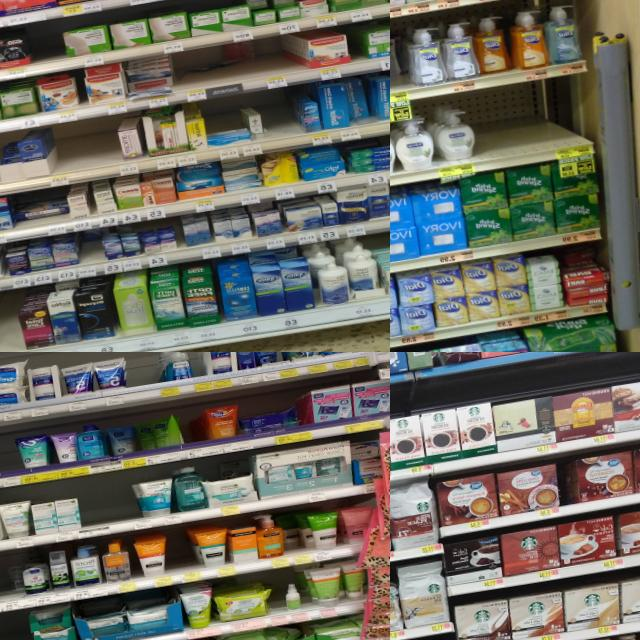100% O.O.S: (470, 82, 560, 170), (76, 480, 136, 538), (125, 352, 159, 402), (166, 532, 195, 584), (0, 437, 20, 494), (266, 576, 288, 626), (181, 416, 201, 460), (0, 560, 11, 613)
100- O.O.S: (53, 120, 123, 186), (182, 62, 261, 102), (259, 91, 293, 153), (31, 25, 68, 75), (256, 36, 286, 90), (0, 297, 26, 352)
